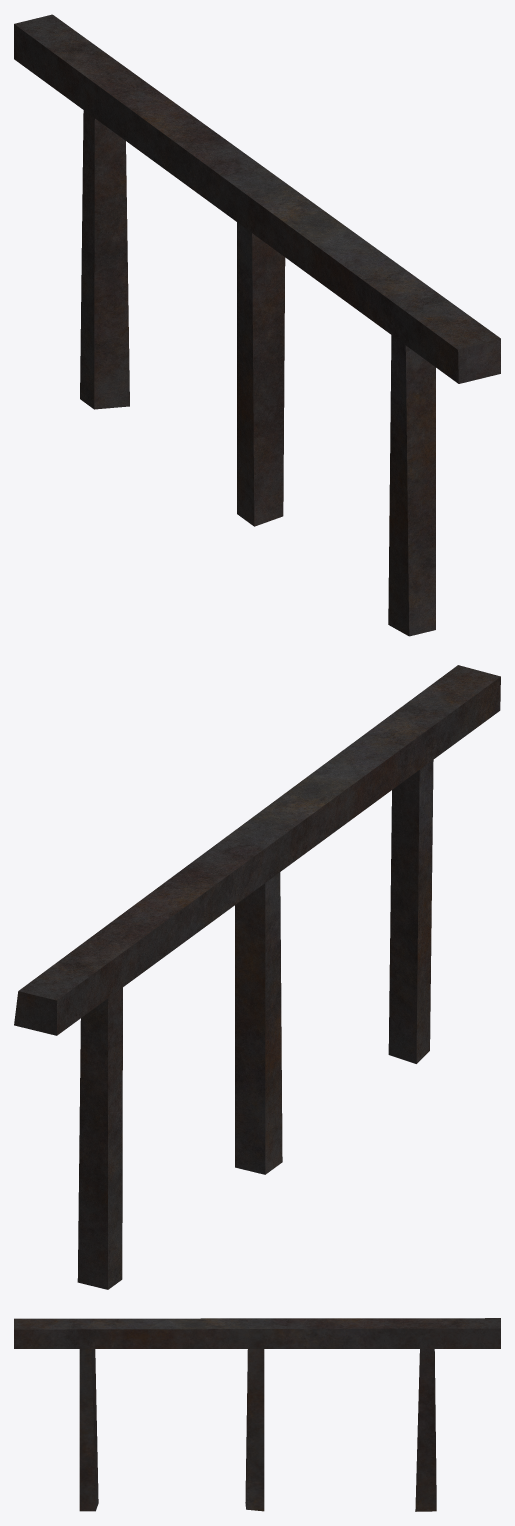
The model's file is railing.fbx.
3 renders of one model, top to bottom at view 1: azimuth 30°, elevation 25°; view 2: azimuth 150°, elevation 25°; view 3: azimuth 270°, elevation 25°, orthographic. The views are drawn at different scales.
Parts seen in each view (by area): view 1: Cube; view 2: Cube; view 3: Cube.
Boxes of the visible parts, x1,y1,x2,y2 form: Cube: [14, 14, 500, 636]; Cube: [14, 665, 500, 1289]; Cube: [14, 1318, 500, 1511].
Bounding box in the file's own units: 17 × 127 × 305.
1 material, 1 textured.
